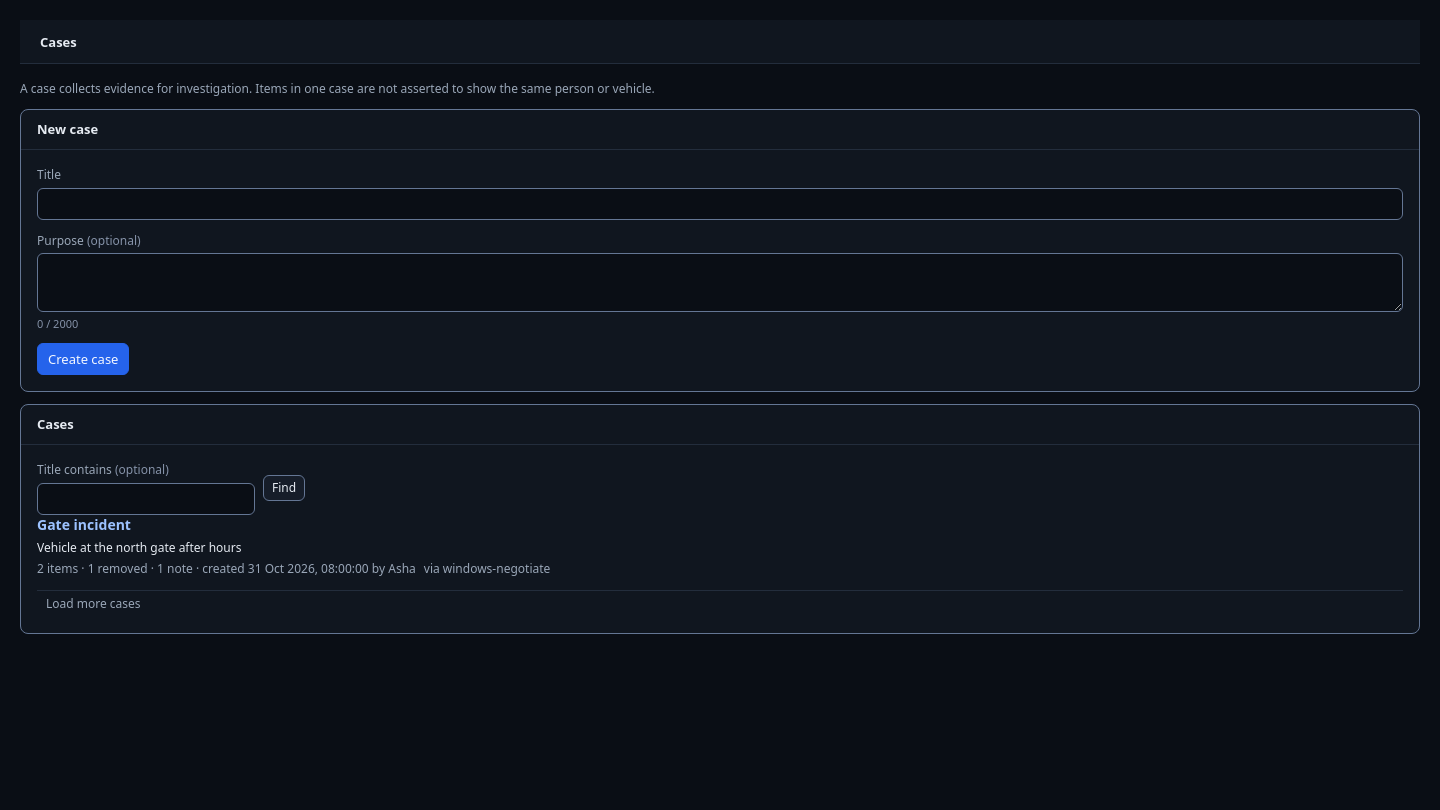
Test: PoC S11-full cases list › reaches every case through the server cursor
Expected: the link "Older case" is not shown
Step 1. Click the button "Load more cases" → {"x": 93, "y": 604}, box 37,591 -> 150,617
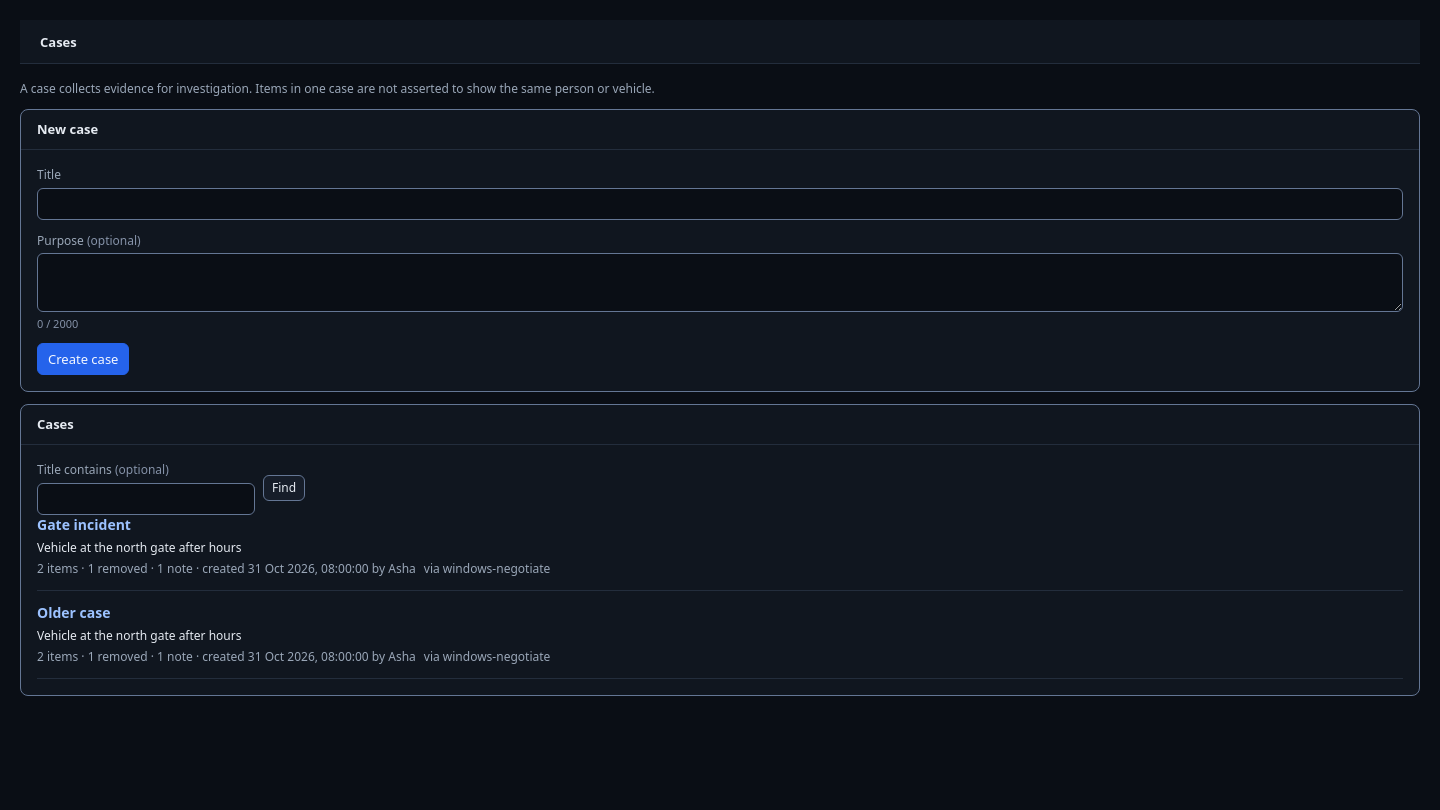
Expected: the button "Load more cases" is gone
